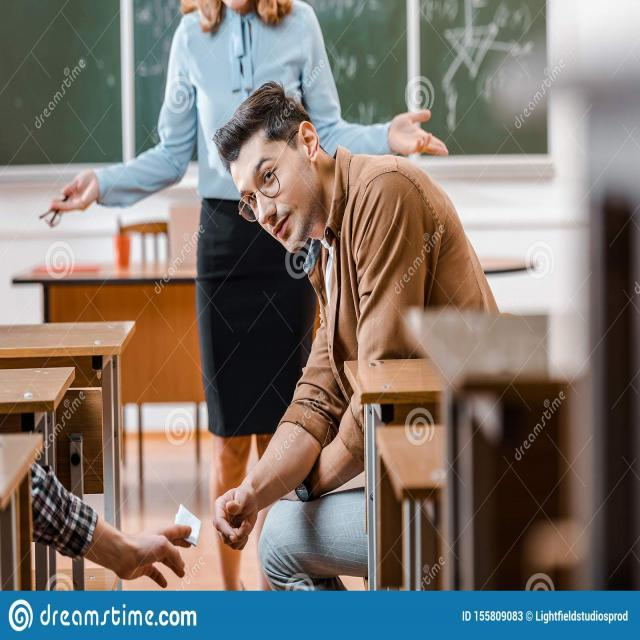cheating: (203, 70, 519, 367), (0, 445, 303, 588)
